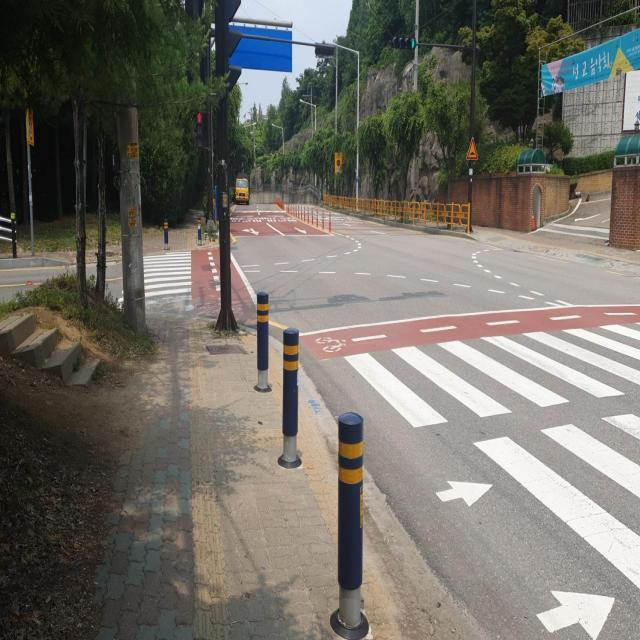빨간불: (196, 112, 204, 149)
횡단보도: (345, 322, 640, 640), (117, 250, 192, 312)
